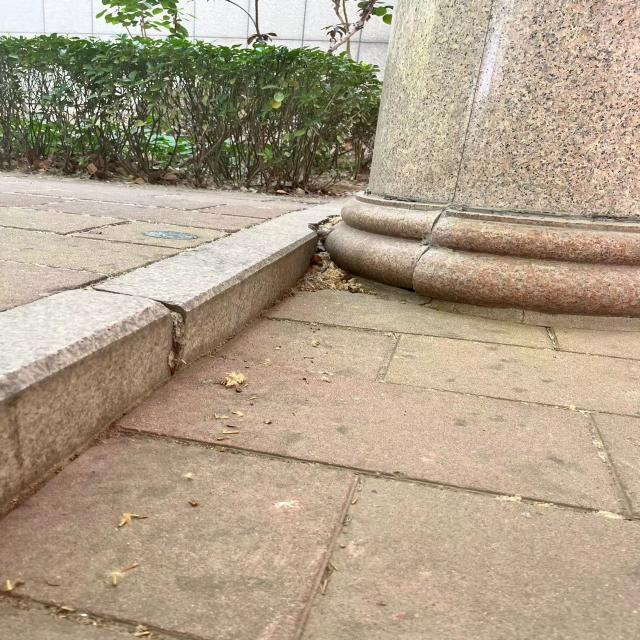bump: (0, 185, 341, 473), (297, 159, 640, 325)
